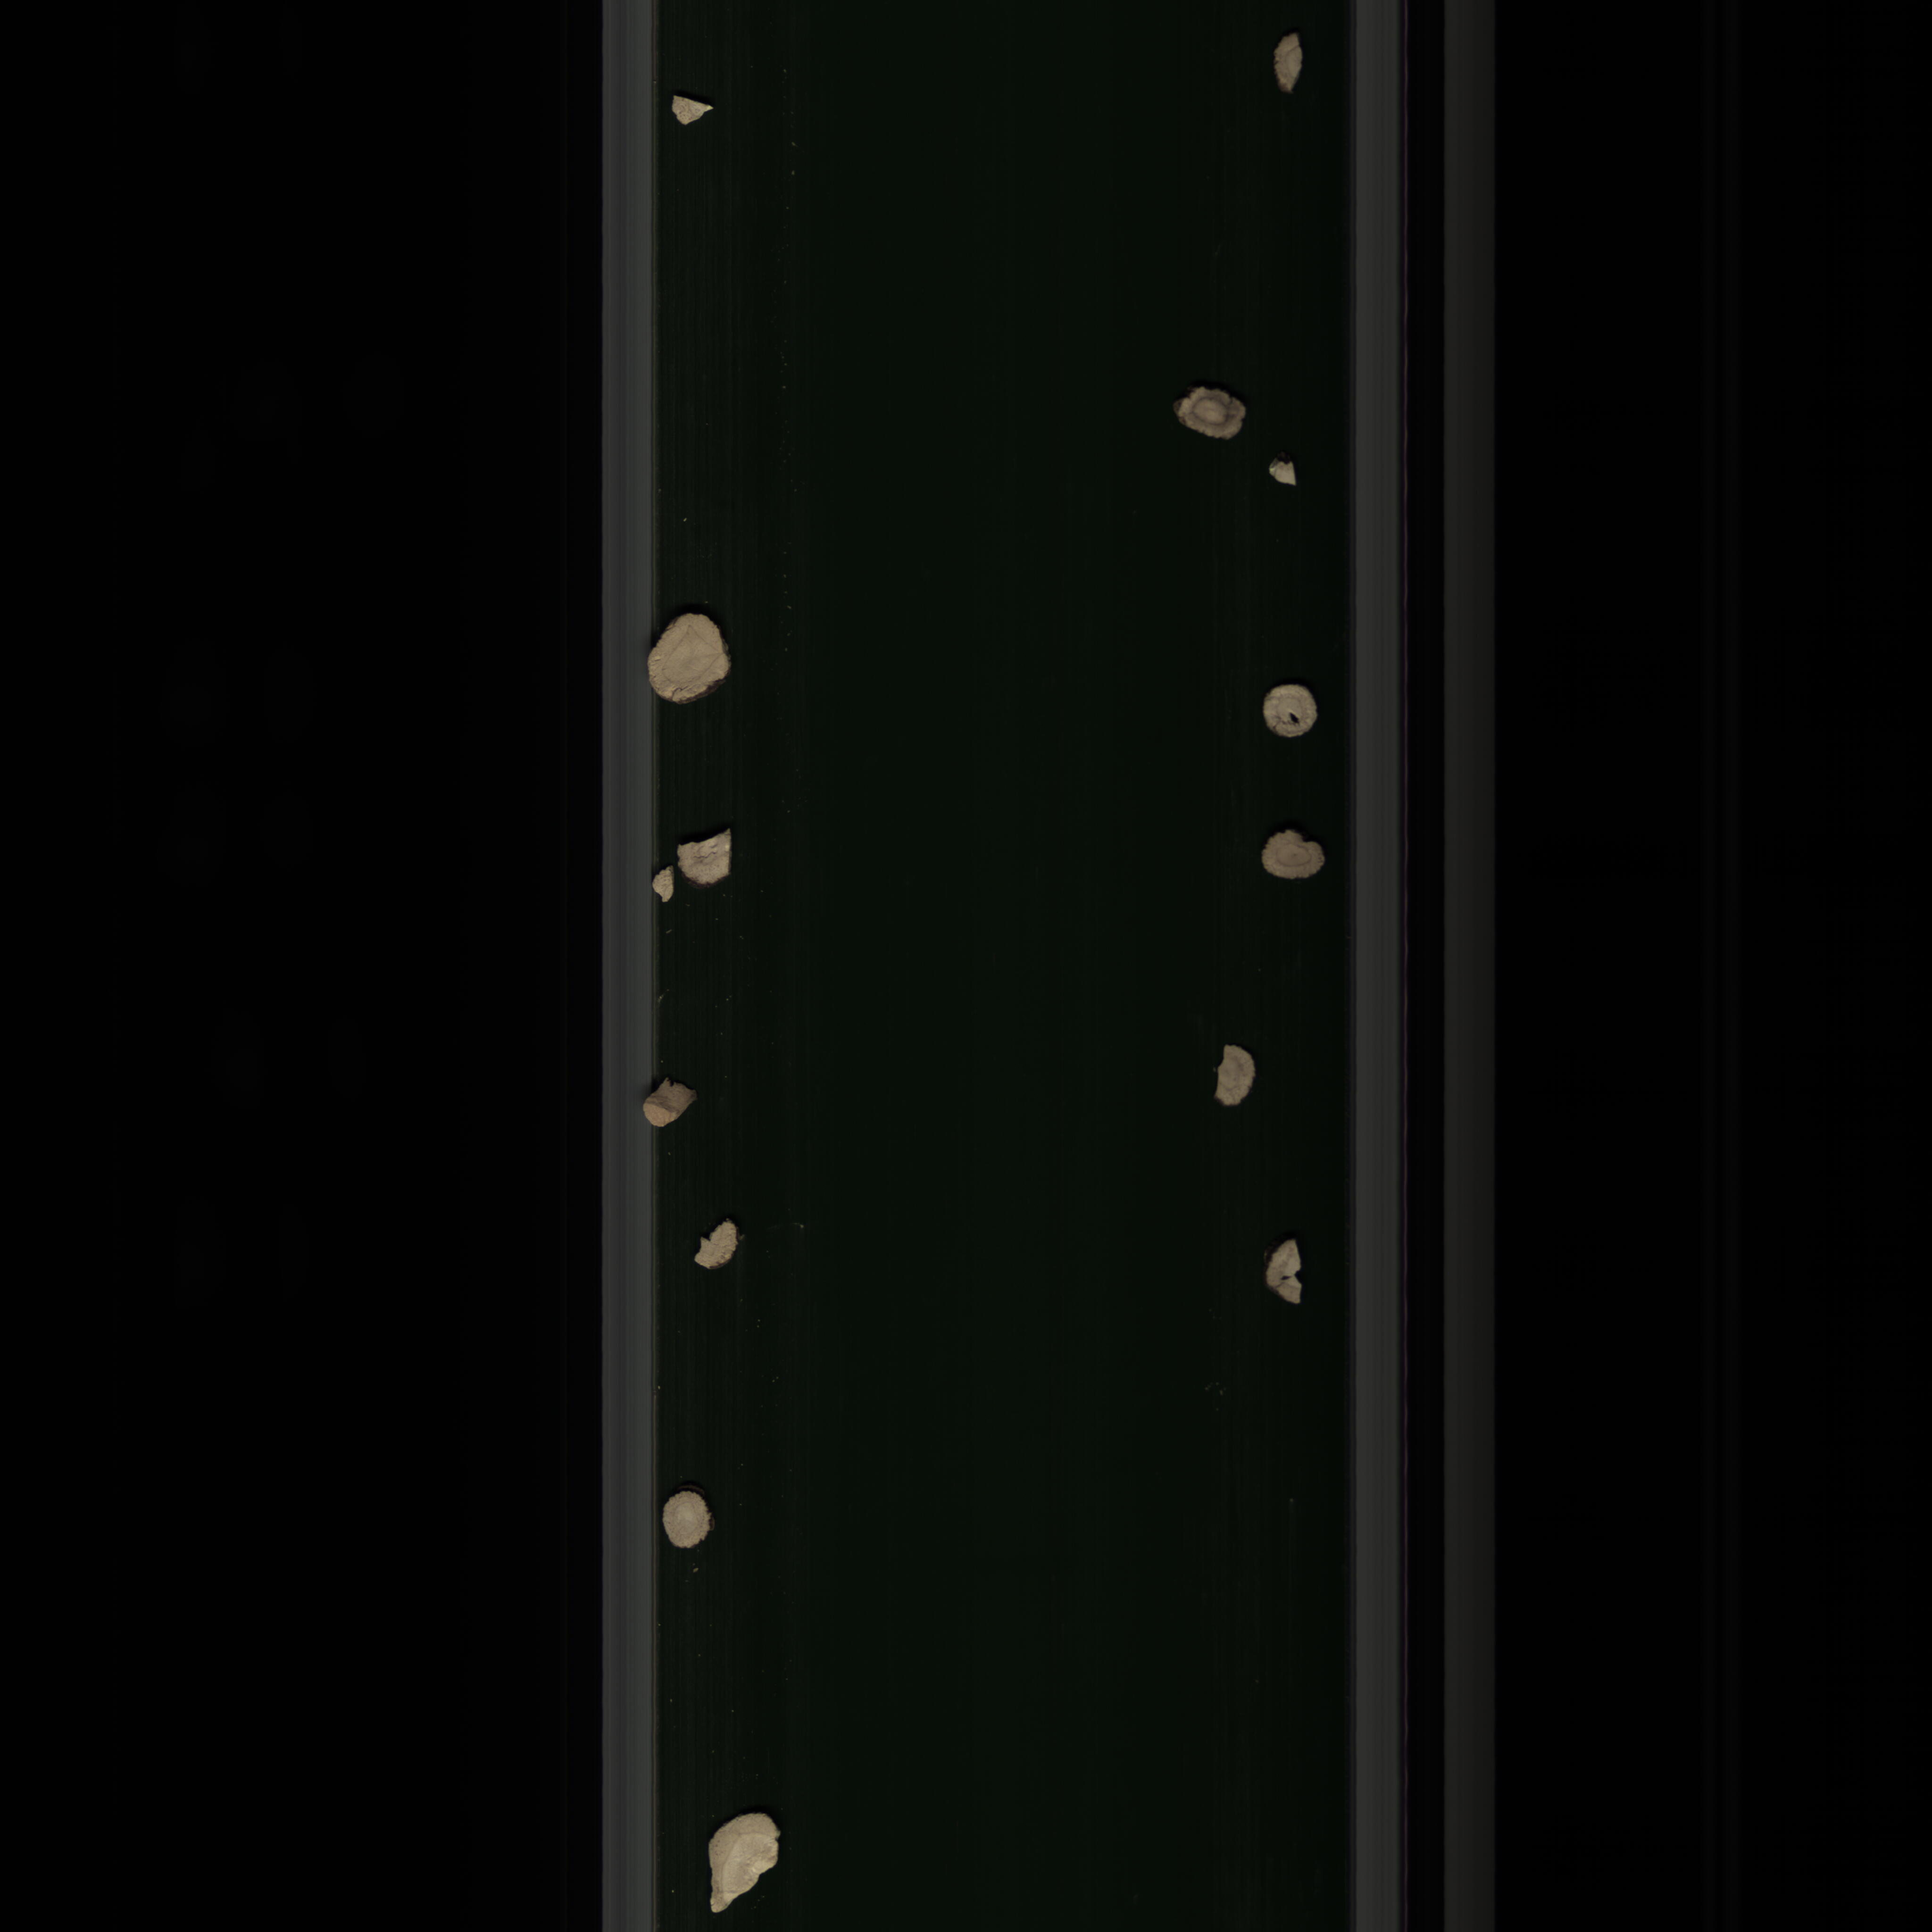debris: (663, 816, 747, 899), (1203, 1037, 1263, 1123), (1254, 1233, 1309, 1322), (686, 1212, 748, 1283), (663, 81, 722, 127), (1254, 456, 1307, 492)
hole: (1247, 674, 1325, 759)
moldy: (1171, 380, 1253, 444), (635, 1072, 706, 1138)
